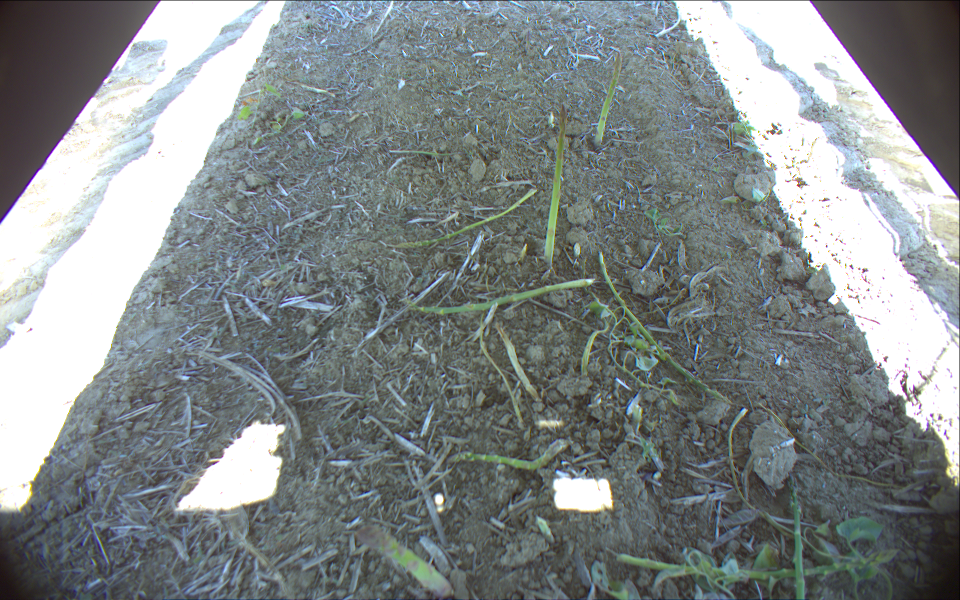aspa: (540, 102, 569, 269), (590, 50, 623, 149)
